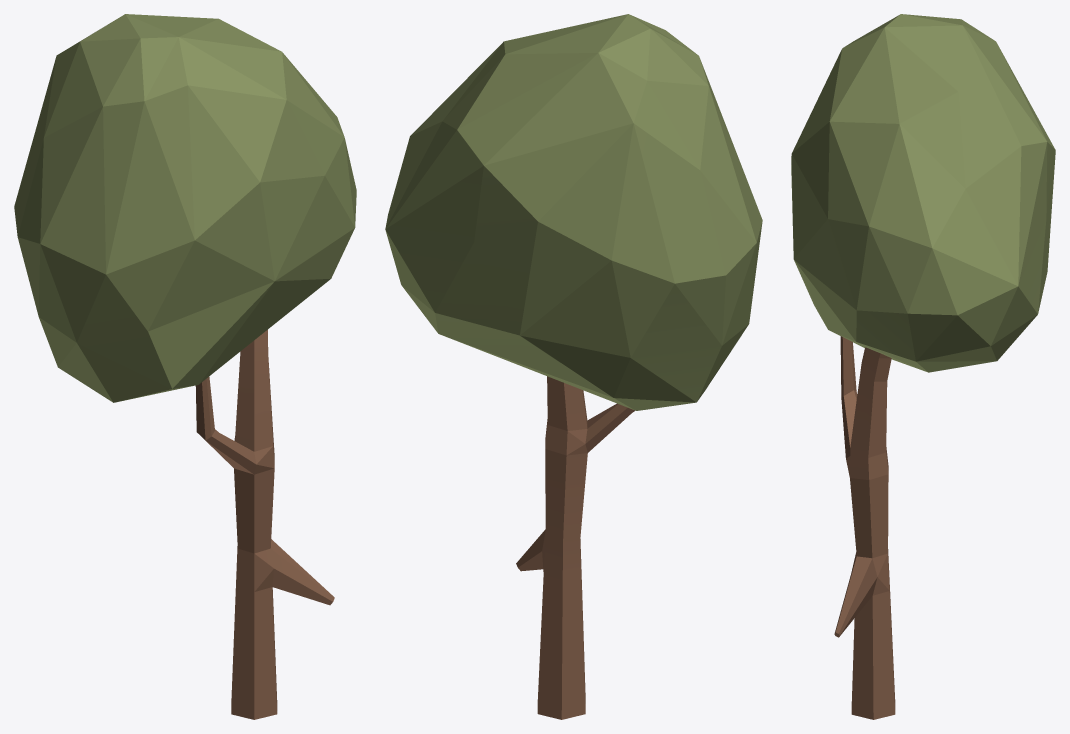
The model's file is deciduous_tree_2.fbx.
The picture shows the model from 3 angles, left to right: view 1: azimuth 30°, elevation 25°; view 2: azimuth 150°, elevation 25°; view 3: azimuth 270°, elevation 25°; orthographic projection. The views are drawn at different scales.
Parts seen in each view (by area): view 1: deciduous_tree_2; view 2: deciduous_tree_2; view 3: deciduous_tree_2.
Part boxes in pixels (box(x1,y1,x2,y2)): deciduous_tree_2: box(14, 14, 356, 719); deciduous_tree_2: box(385, 14, 762, 719); deciduous_tree_2: box(791, 14, 1055, 719).
Size of the model in its own units: 327 by 664 by 245.
